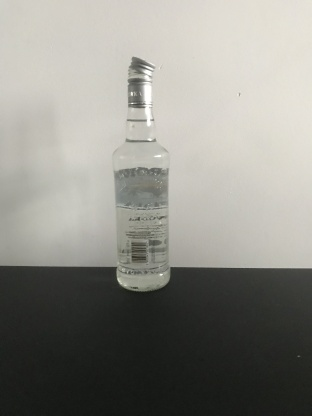nakretka: (125, 53, 156, 108)
